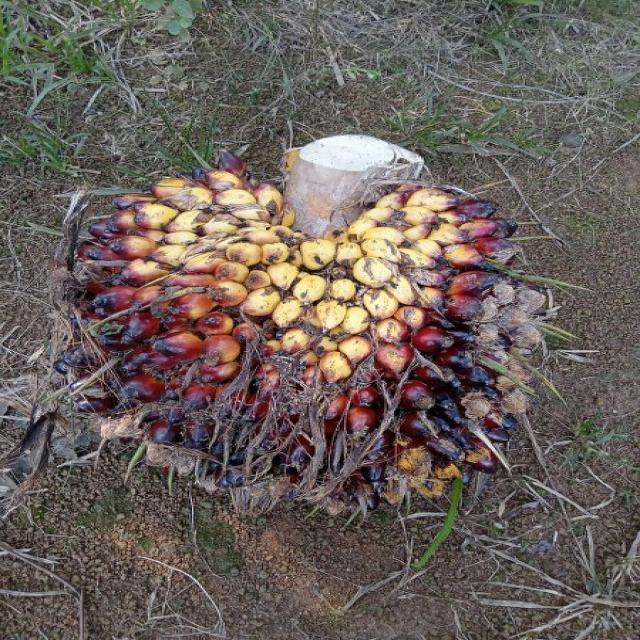fraksi 1: (24, 81, 561, 556)
